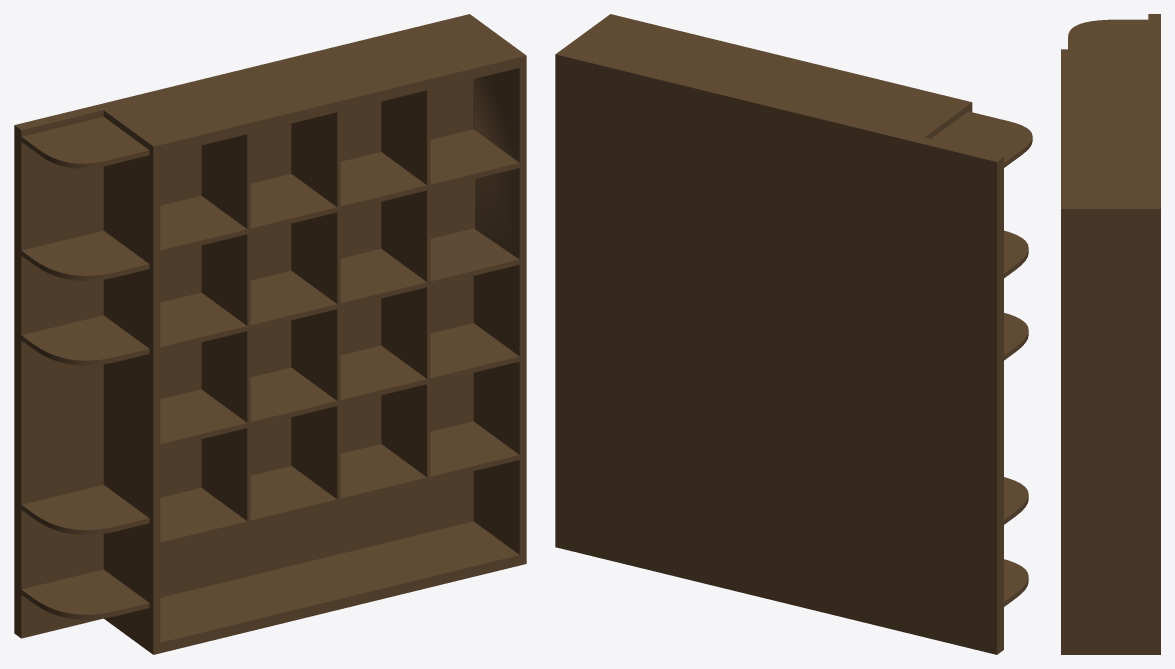
The model's file is cabinet.glb.
The picture shows the model from 3 angles, left to right: view 1: azimuth 30°, elevation 25°; view 2: azimuth 150°, elevation 25°; view 3: azimuth 270°, elevation 25°; orthographic projection. The views are drawn at different scales.
Visible parts, largest first — view 1: Box001; view 2: Box001; view 3: Box001.
Part boxes in pixels (x1,y1,x2,y2): Box001: (14, 14, 526, 654); Box001: (555, 14, 1032, 654); Box001: (1061, 14, 1160, 654).
Size of the model in its own units: 3.34 by 3.56 by 0.7213.
